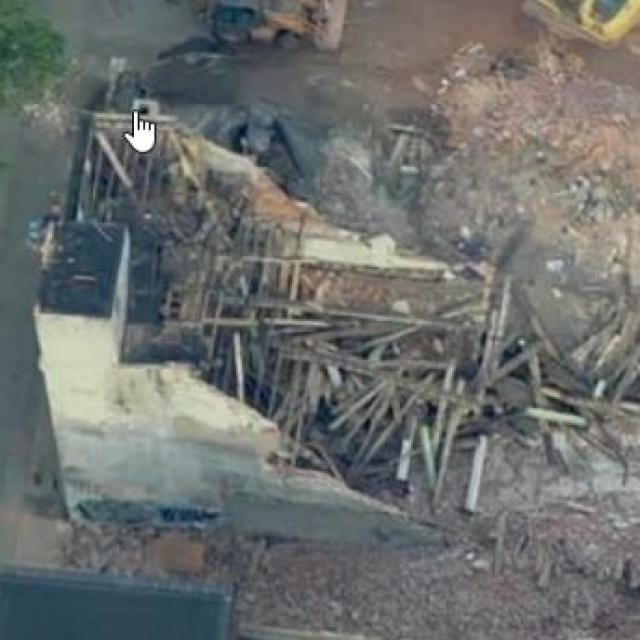collapsed_building: (88, 125, 538, 548)
